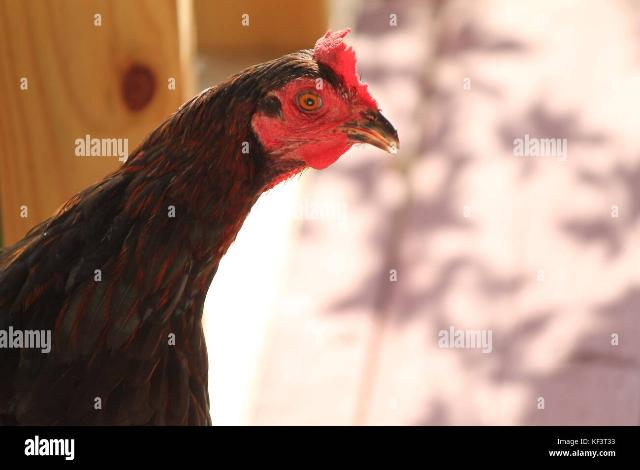Chicken: (0, 27, 400, 427)
